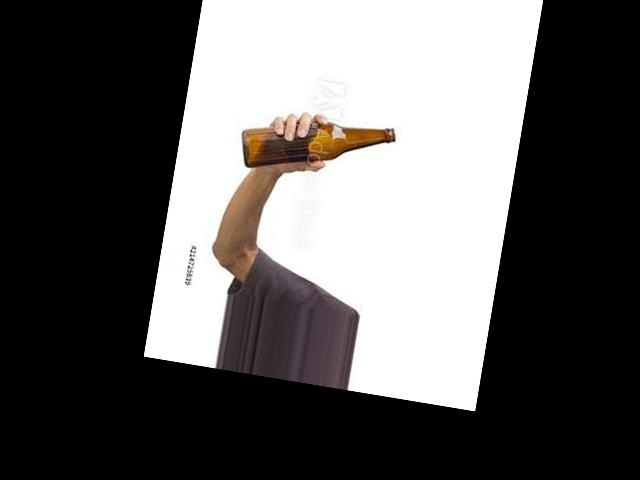beer: (236, 103, 397, 190)
